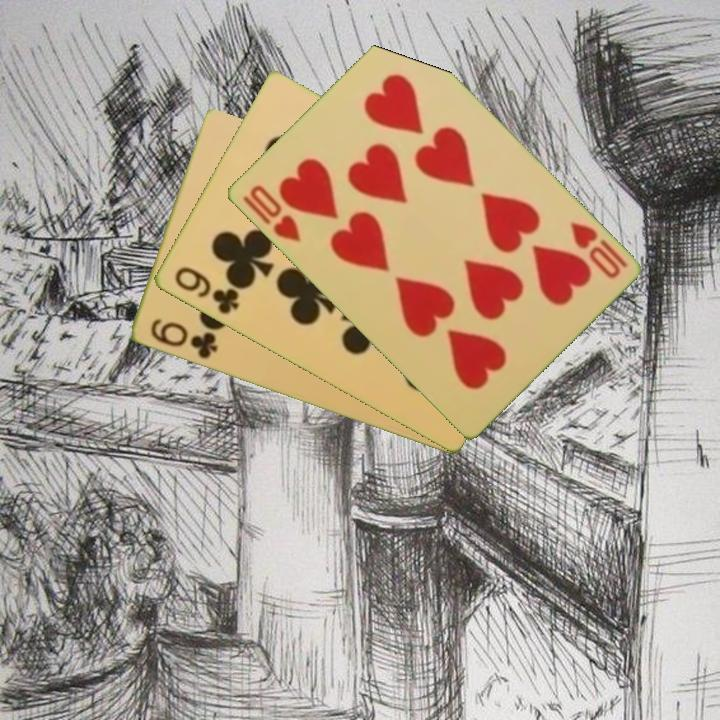10h: (238, 181, 304, 245), (565, 218, 630, 282)
6c: (146, 314, 220, 362)
9c: (170, 263, 242, 318)
